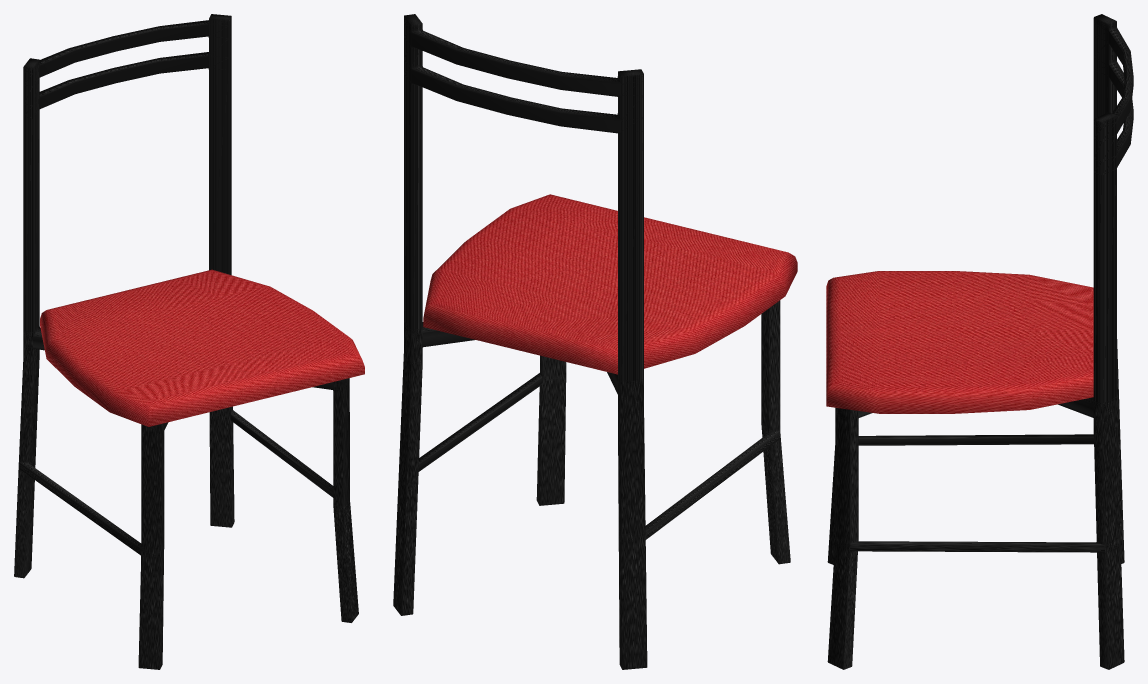
Rendered from Chair.fbx.
3 views of the same model, side by side, from view 1: azimuth 30°, elevation 25°; view 2: azimuth 150°, elevation 25°; view 3: azimuth 270°, elevation 25° (orthographic). The views are drawn at different scales.
Parts seen in each view (by area): view 1: Cube.001; view 2: Cube.001; view 3: Cube.001.
Boxes of the visible parts, x1=… form: Cube.001: x1=14, y1=14, x2=364, y2=669; Cube.001: x1=393, y1=14, x2=797, y2=669; Cube.001: x1=826, y1=14, x2=1133, y2=669.
Size of the model in its own units: 47.7 by 95.26 by 48.67.
1 material, 1 textured.
